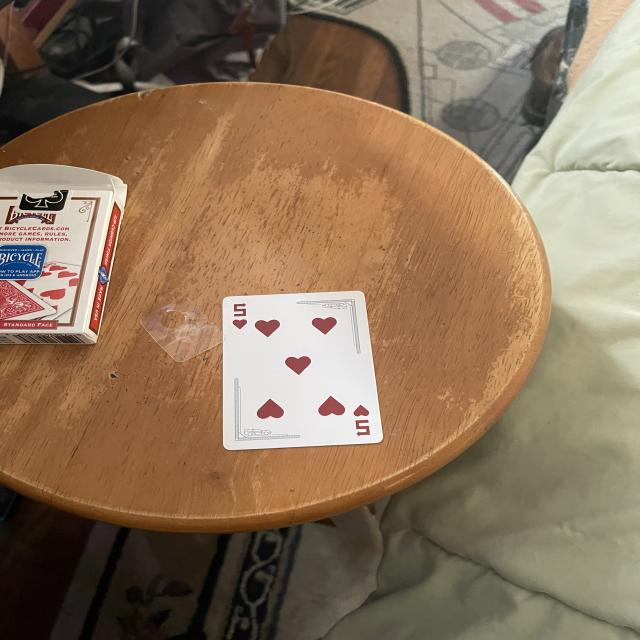5 of hearts: (224, 293, 382, 447)
